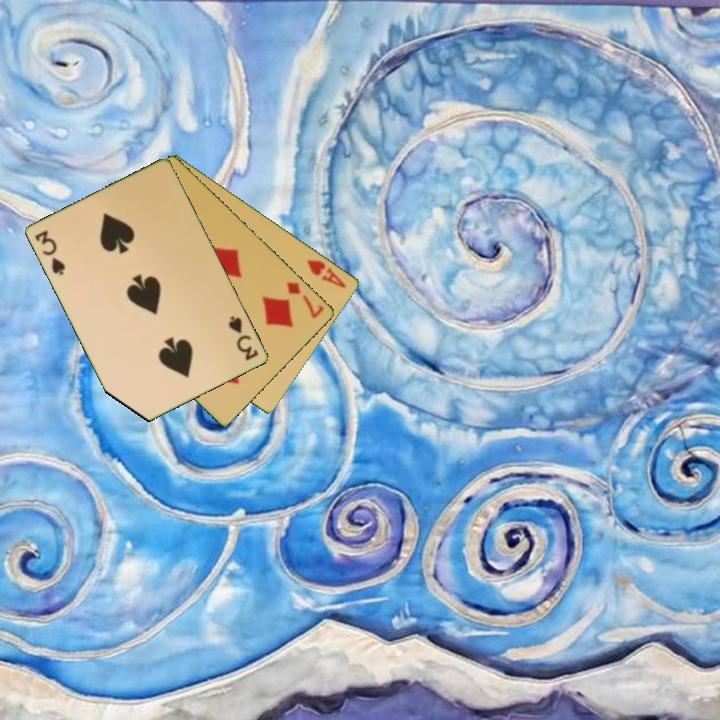3s: (32, 226, 69, 279), (225, 312, 261, 364)
7d: (283, 278, 327, 321)
Ah: (304, 256, 349, 291)
